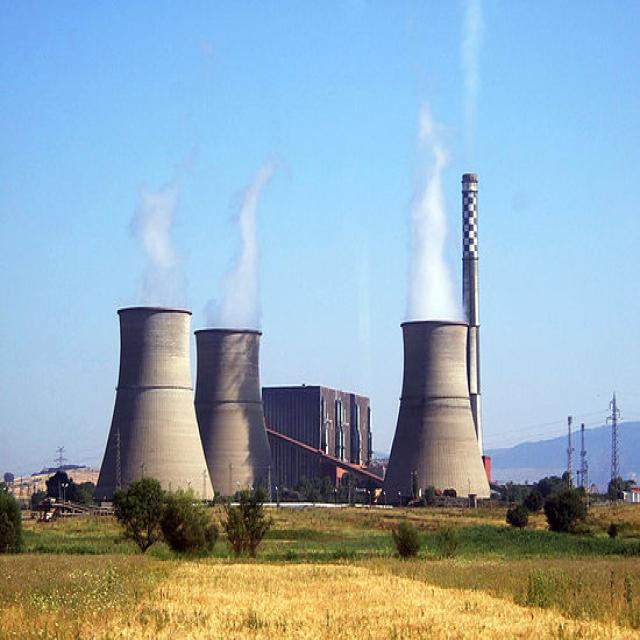Smoke: (126, 136, 294, 332), (404, 96, 468, 322)
